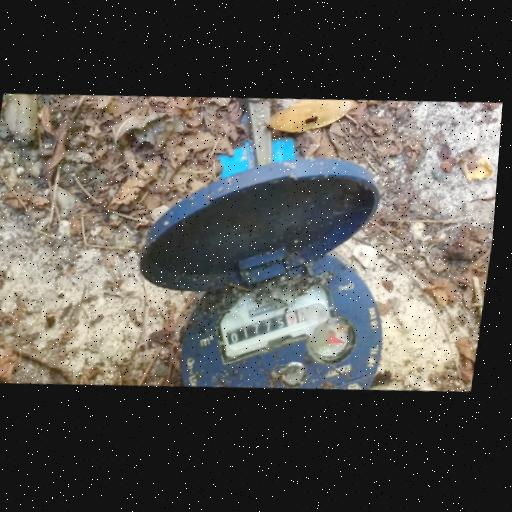0: (226, 328, 241, 346)
1: (294, 306, 311, 324), (237, 324, 252, 342)
5: (272, 313, 289, 331)
7: (248, 320, 265, 338), (260, 317, 276, 335)
9: (283, 309, 299, 327)
border_water_meter_number: (221, 292, 333, 360)
